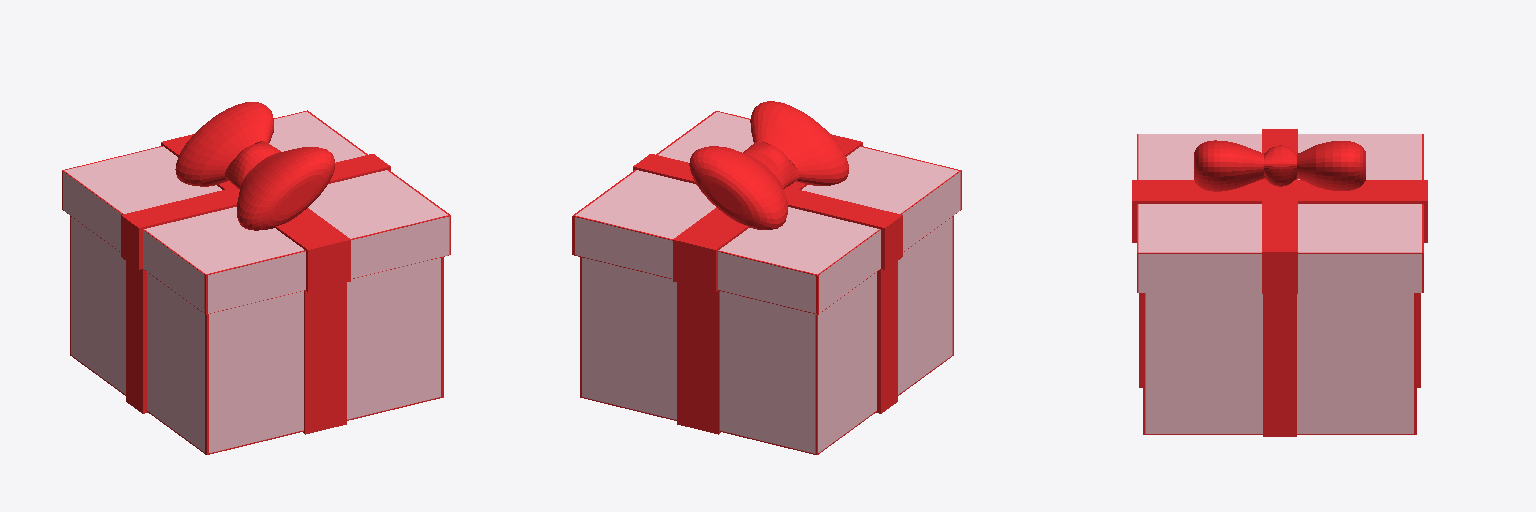
3 renders of one model, left to right at view 1: azimuth 30°, elevation 25°; view 2: azimuth 150°, elevation 25°; view 3: azimuth 270°, elevation 25°, orthographic.
Parts seen in each view (by area): view 1: Cubo, Cubo.008, Cilindro, Cubo.001, Cubo.006, Cubo.007, Cubo.004; view 2: Cubo, Cubo.008, Cilindro, Cubo.001, Cubo.007, Cubo.006, Cubo.004; view 3: Cubo, Cubo.008, Cilindro, Cubo.007, Cubo.004, Cubo.006, Cubo.001.
Part boxes in pixels (x1,y1,x2,y2): Cubo: (70,216,443,454); Cubo.008: (62,110,450,314); Cilindro: (175,102,334,230); Cubo.001: (303,283,346,434); Cubo.006: (121,154,390,269); Cubo.007: (161,134,350,291); Cubo.004: (126,261,147,413); Cubo: (580,216,953,454); Cubo.008: (572,111,961,314); Cilindro: (689,101,848,229); Cubo.001: (677,283,720,434); Cubo.007: (673,134,862,291); Cubo.006: (633,154,902,269); Cubo.004: (876,261,897,413); Cubo: (1143,293,1416,434); Cubo.008: (1137,134,1423,292); Cilindro: (1194,140,1365,191); Cubo.007: (1132,180,1427,242); Cubo.004: (1263,294,1296,436); Cubo.006: (1262,129,1297,293); Cubo.001: (1139,293,1420,387).
Bounding box in the file's own units: 2.13 × 1.97 × 2.16.
Materials: 7 (2 with a texture image).